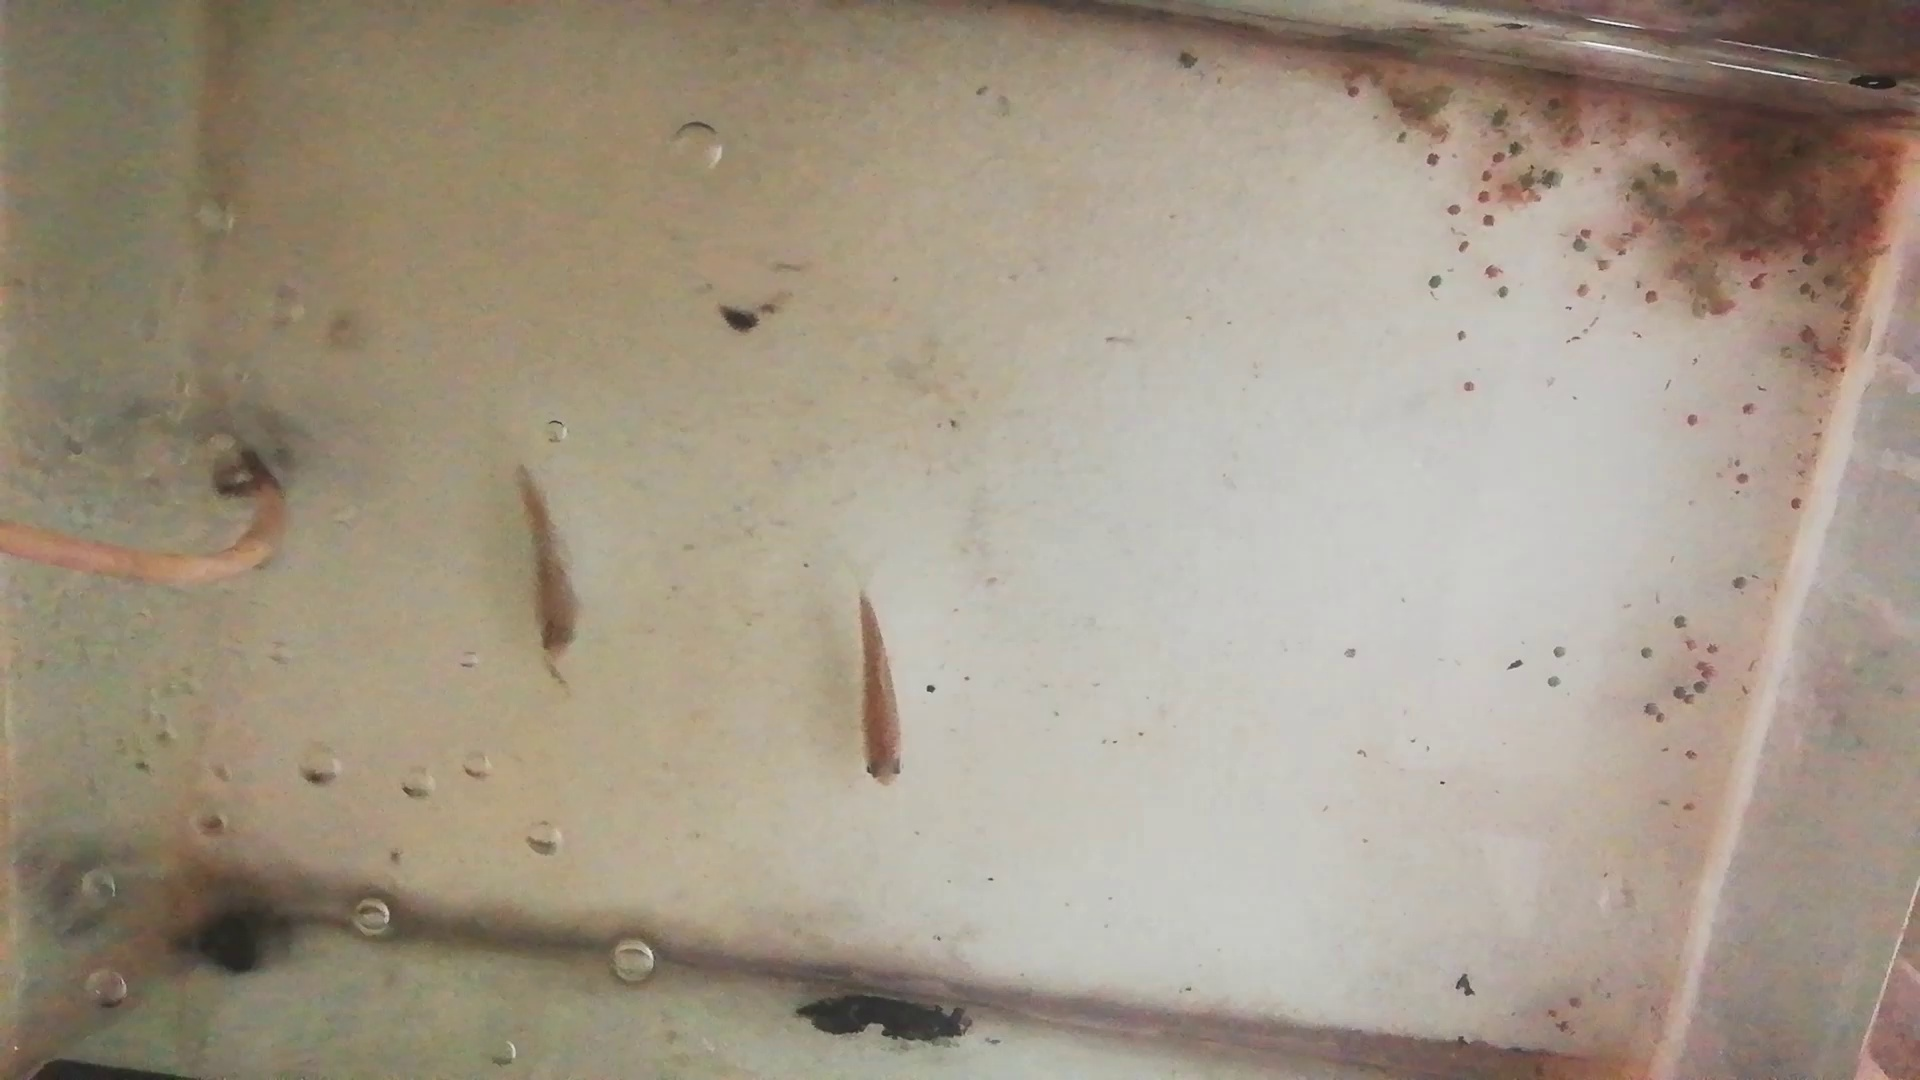fish: (514, 463, 585, 666), (852, 589, 906, 789)
